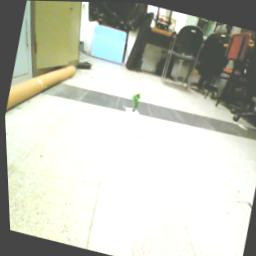herb: (127, 92, 143, 116)
